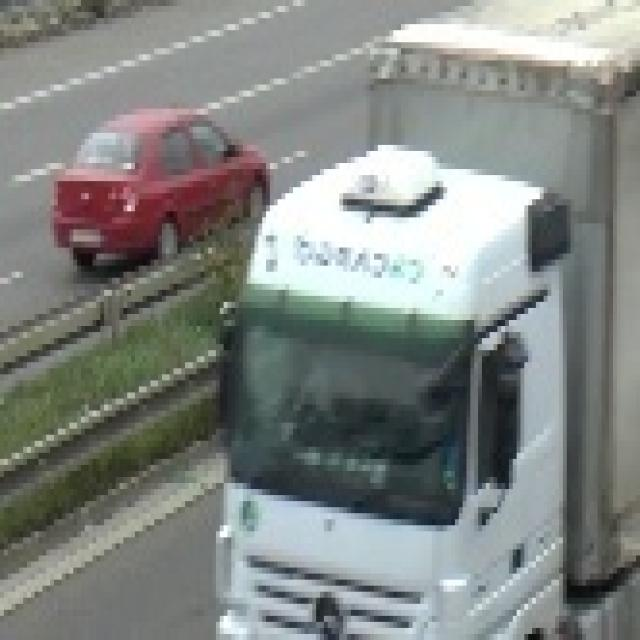SED: (52, 108, 269, 275)
TRUCK: (221, 38, 640, 636)
